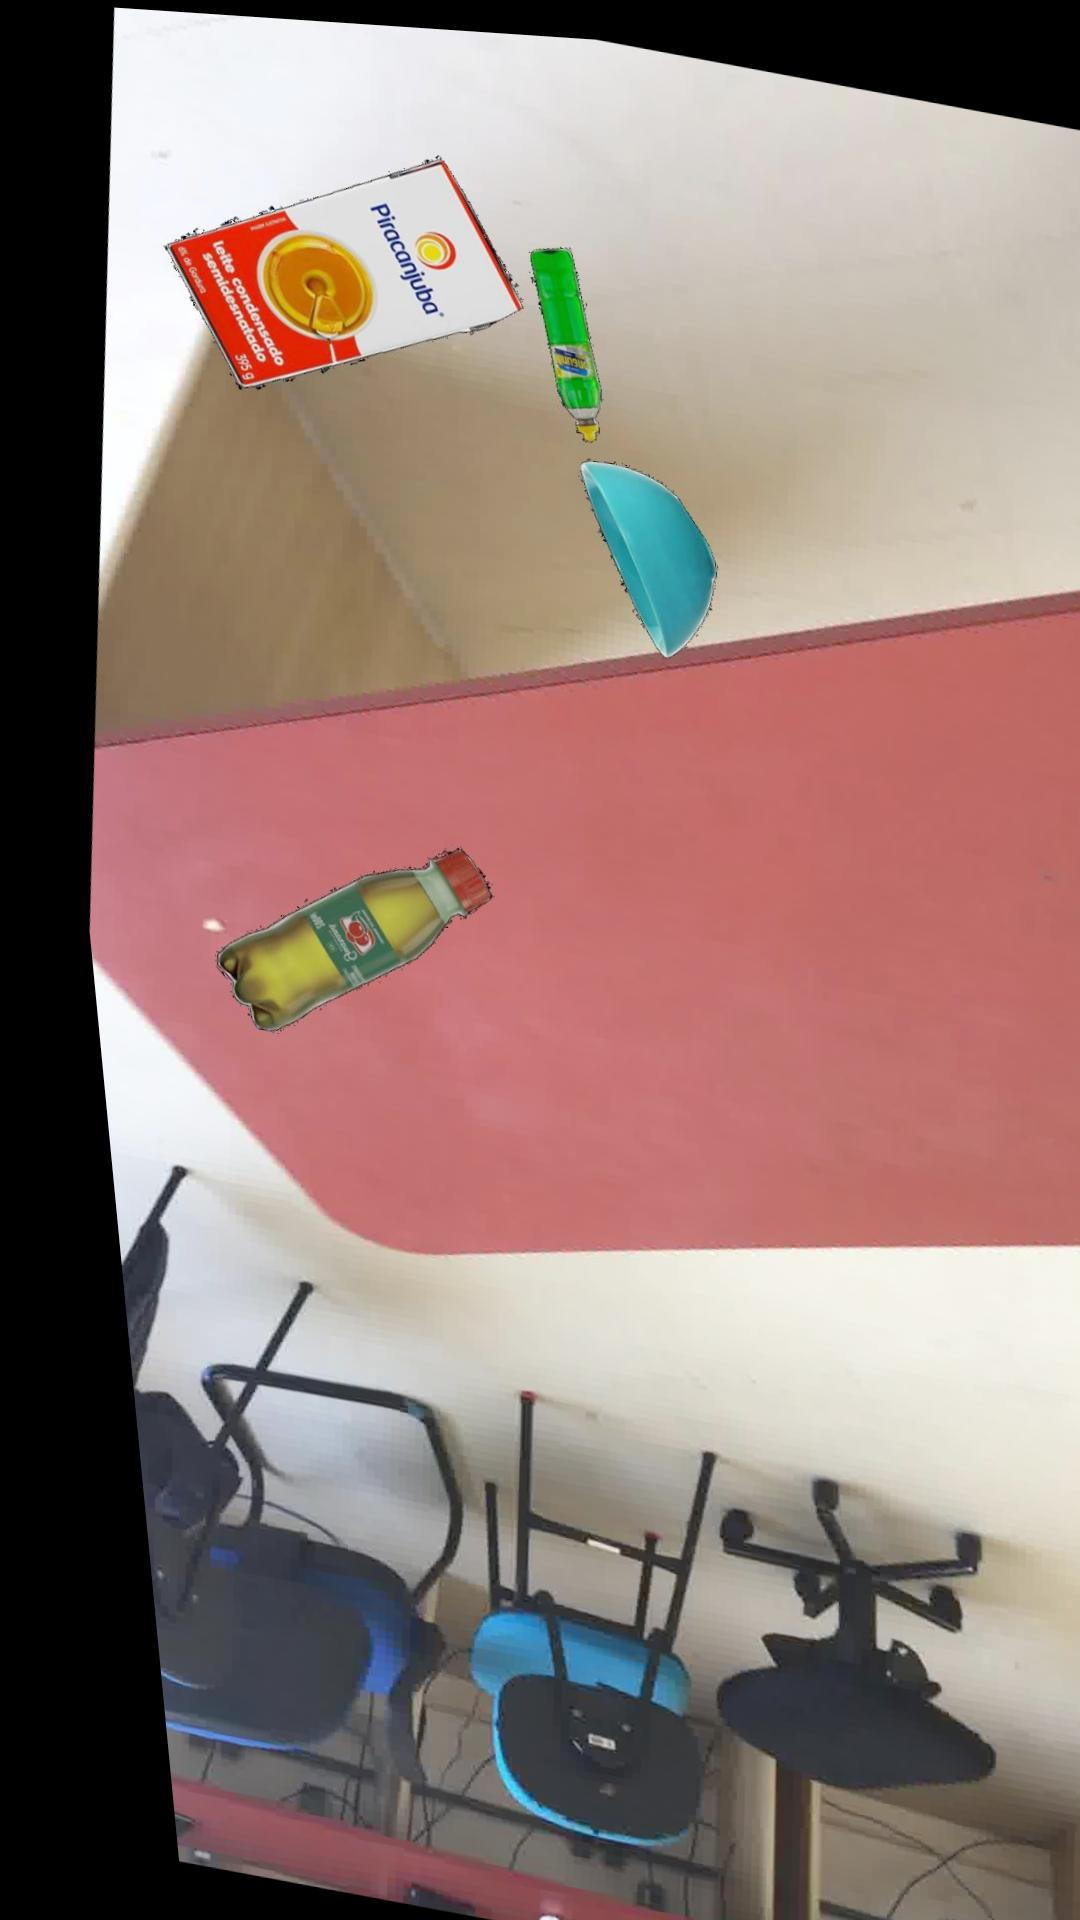bowl: (572, 454, 707, 650)
cleaner: (526, 240, 596, 436)
guarana: (198, 844, 476, 1030)
